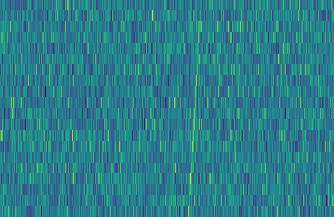signal: (184, 0, 206, 217)
